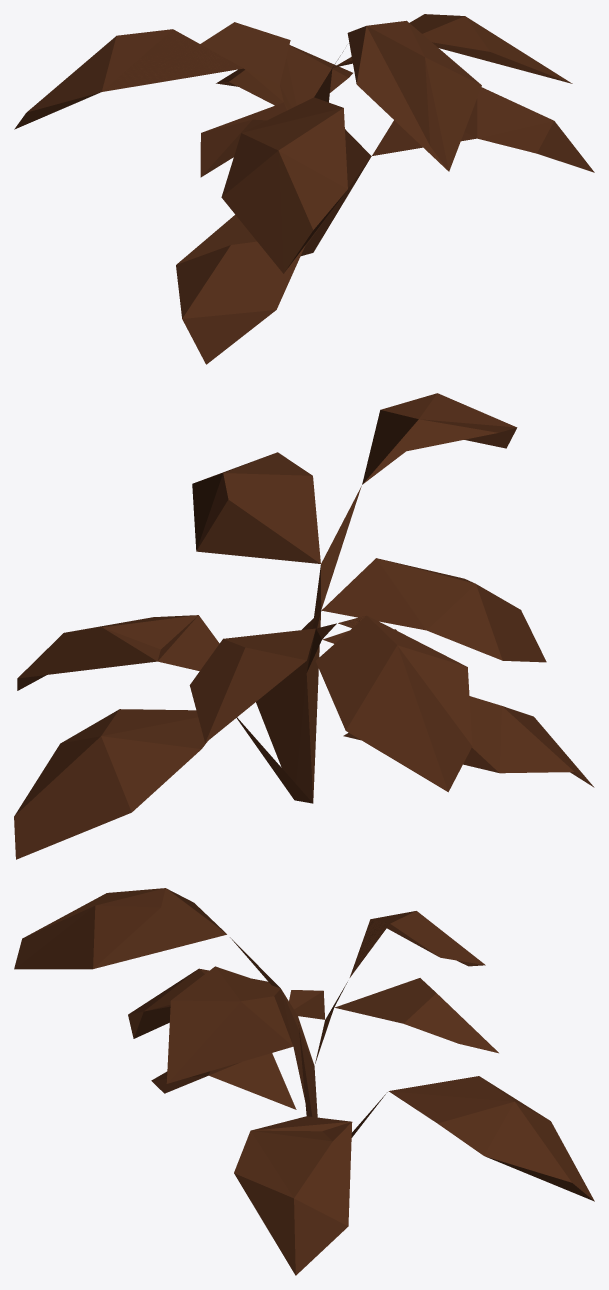
File: ShrubLeavesTiny04.fbx
The picture shows the model from 3 angles, top to bottom: view 1: azimuth 30°, elevation 25°; view 2: azimuth 150°, elevation 25°; view 3: azimuth 270°, elevation 25°; orthographic projection. The views are drawn at different scales.
Visible parts, largest first — view 1: ShrubLeavesTiny04; view 2: ShrubLeavesTiny04; view 3: ShrubLeavesTiny04.
Boxes of the visible parts, bbox=[...] form: ShrubLeavesTiny04: bbox=[14, 14, 594, 364]; ShrubLeavesTiny04: bbox=[14, 393, 594, 859]; ShrubLeavesTiny04: bbox=[14, 888, 594, 1275].
Size of the model in its own units: 63.43 by 36.82 by 69.55.
